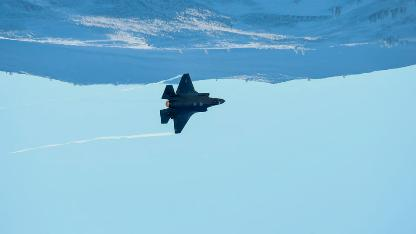F22: (160, 74, 226, 134)
